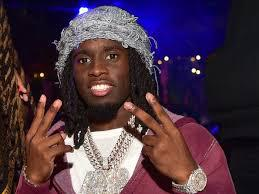kai-cenat: (68, 39, 137, 116)
